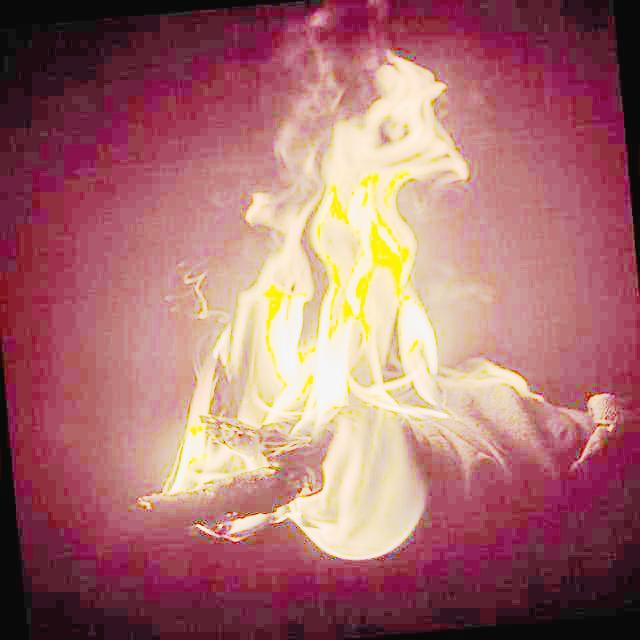api: (159, 54, 536, 560)
